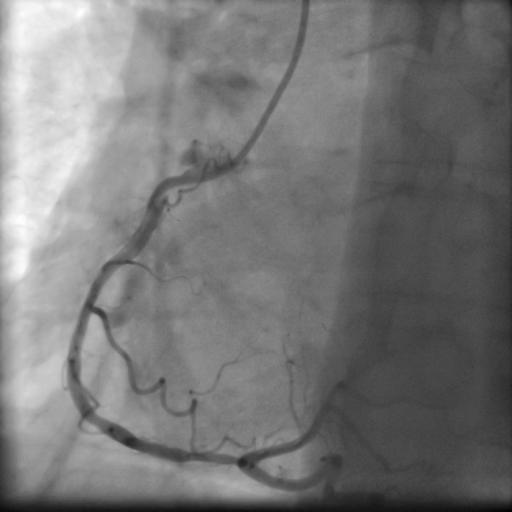Stenosis: (178, 445, 241, 471)
